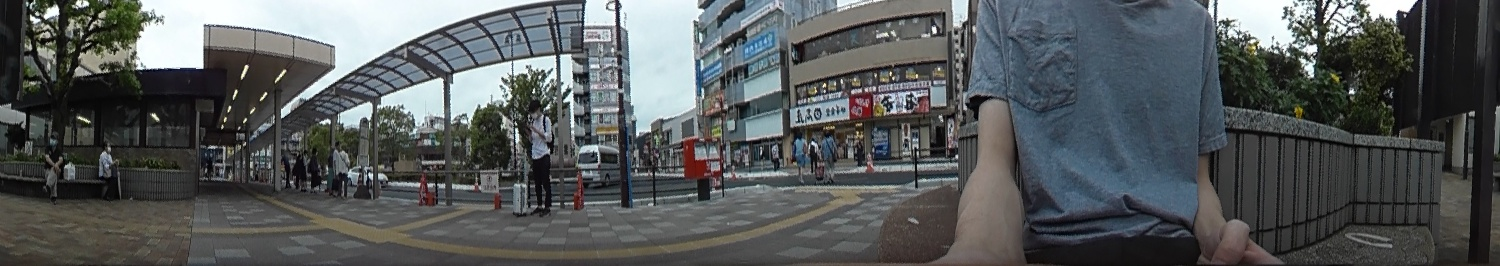difficult_person: (333, 139, 348, 195), (823, 129, 838, 181), (309, 146, 320, 194), (806, 137, 819, 176), (793, 135, 804, 176), (299, 146, 310, 185), (770, 141, 779, 172)
person: (518, 101, 555, 215), (42, 130, 62, 201), (99, 143, 119, 202)
